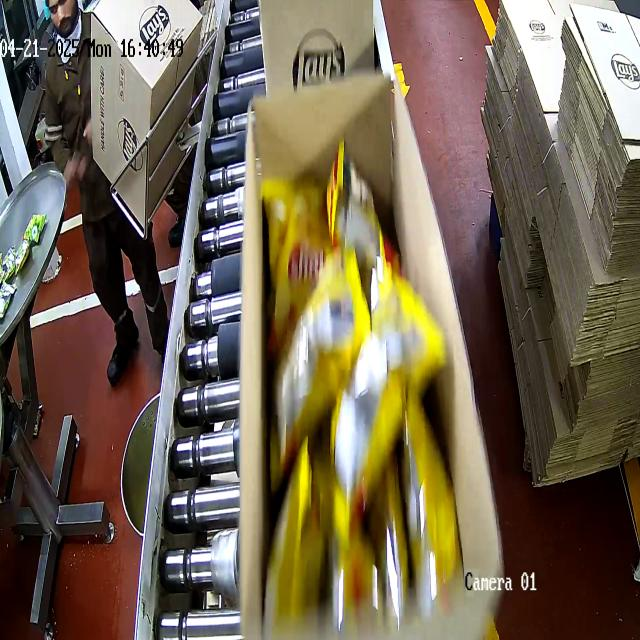SALTED: (256, 168, 467, 616)
